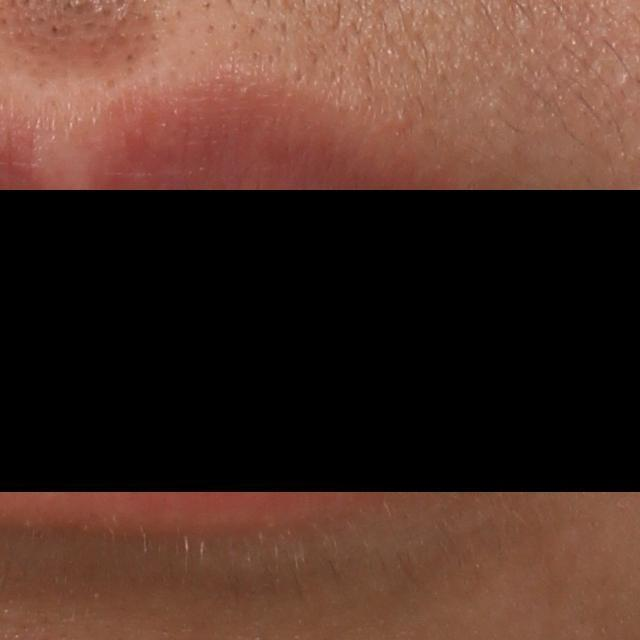comedo: (394, 109, 411, 129)
